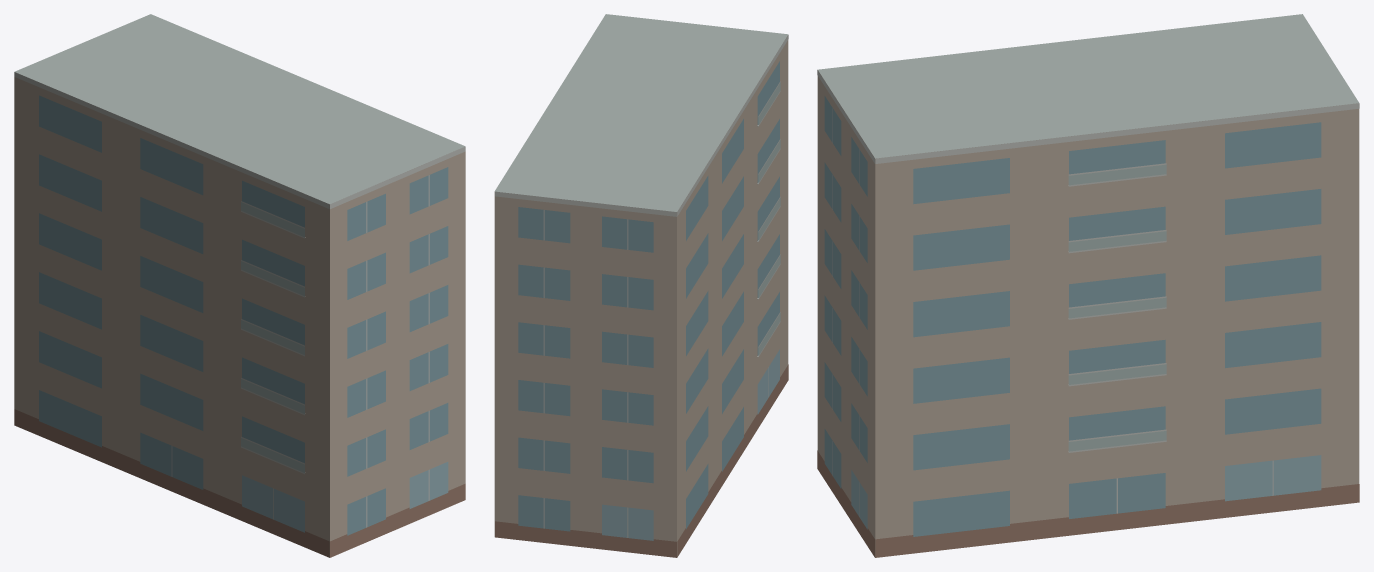
Rendered from survey-upis-32983488.glb.
3 views of the same model, side by side, from view 1: azimuth 30°, elevation 25°; view 2: azimuth 150°, elevation 25°; view 3: azimuth 270°, elevation 25° (orthographic). The views are drawn at different scales.
Parts seen in each view (by area): view 1: survey-upis-32983488.tmp; view 2: survey-upis-32983488.tmp; view 3: survey-upis-32983488.tmp.
Part boxes in pixels (x1,y1,x2,y2): survey-upis-32983488.tmp: [14, 14, 465, 557]; survey-upis-32983488.tmp: [494, 14, 788, 557]; survey-upis-32983488.tmp: [817, 14, 1359, 557].
Size of the model in its own units: 13.52 by 17.4 by 21.4.
